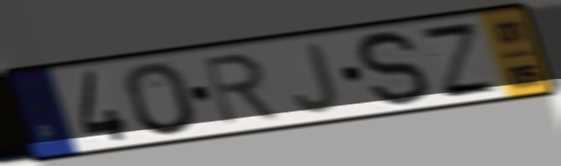4: (79, 67, 130, 144)
J: (290, 40, 342, 116)
O: (122, 60, 201, 139)
R: (198, 50, 283, 129)
S: (354, 27, 433, 111)
Z: (416, 21, 503, 100)
